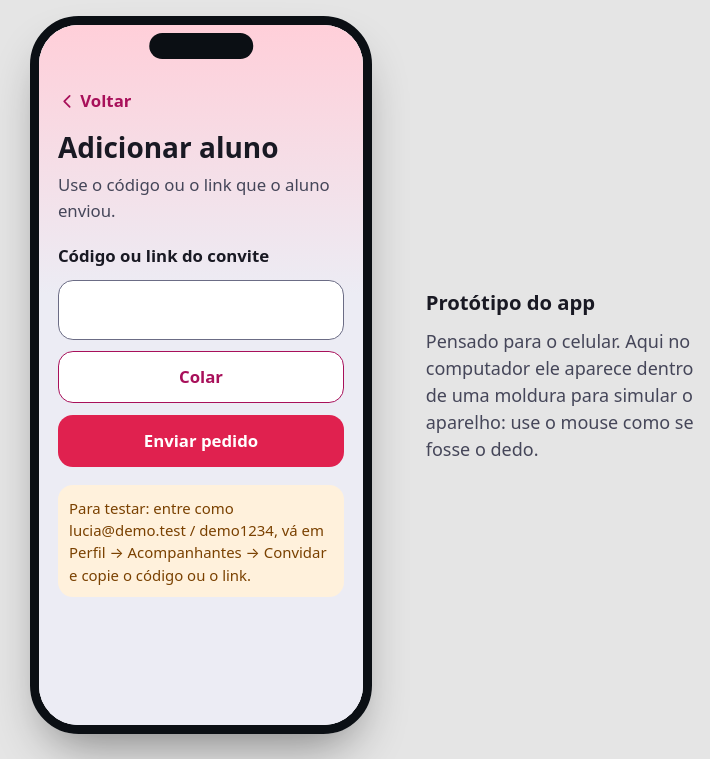
Test: campo do código › o que a pessoa digita vira maiúscula e perde os espaços
Type "ab c2" into the field labelled "Código ou link do convite" at (201, 310), box [58, 280, 344, 340]
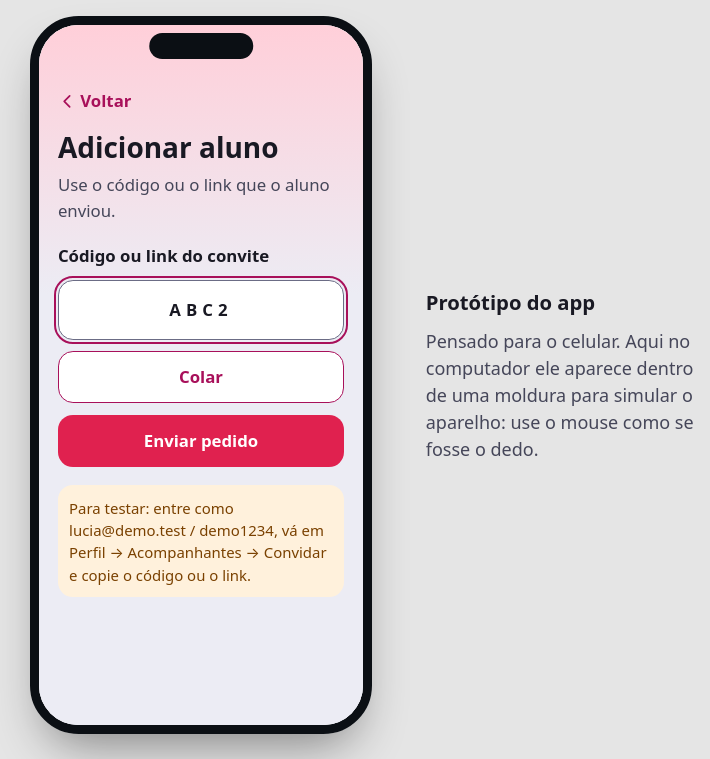
expect the field labelled "Código ou link do convite" holds "ABC2": met, box [58, 280, 344, 340]
